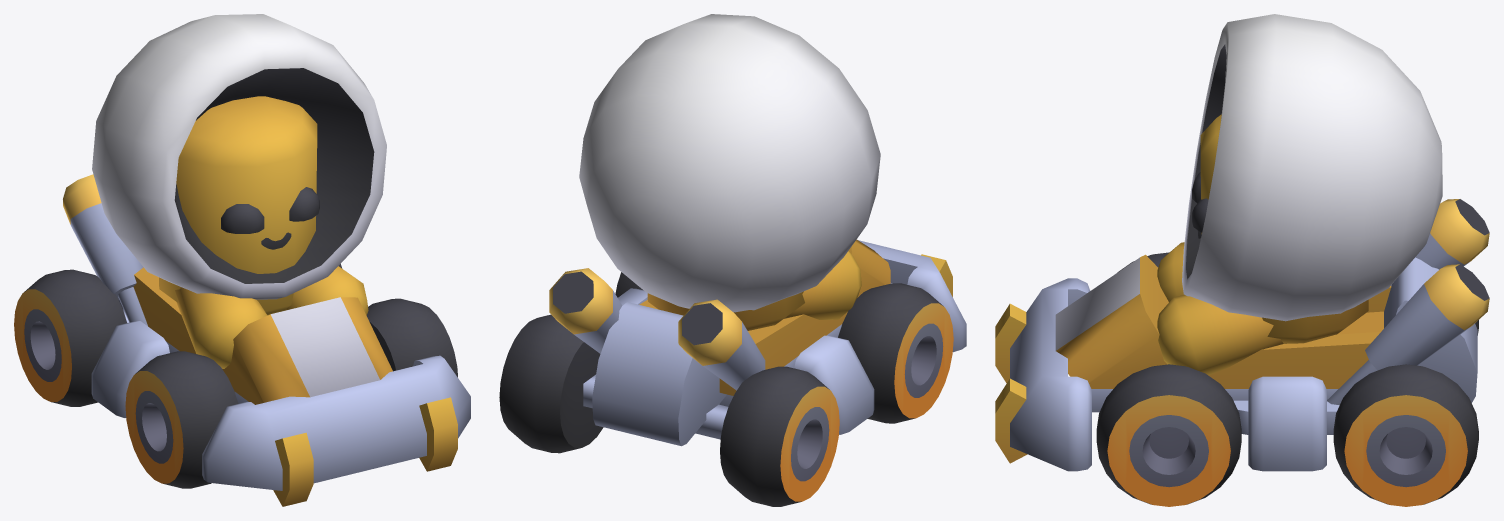
File: kart-ooli.glb
3 renders of one model, left to right at view 1: azimuth 30°, elevation 25°; view 2: azimuth 150°, elevation 25°; view 3: azimuth 270°, elevation 25°, orthographic. The views are drawn at different scales.
Parts seen in each view (by area): view 1: character, kart-ooli, wheel-back-right, wheel-front-right, wheel-front-left; view 2: character, kart-ooli, wheel-back-right, wheel-front-right, wheel-back-left; view 3: character, kart-ooli, wheel-front-left, wheel-back-left.
Boxes of the visible parts, left/top/right/bottom form: character: left=92, top=14, right=386, bottom=368; kart-ooli: left=63, top=174, right=470, bottom=506; wheel-back-right: left=14, top=269, right=126, bottom=406; wheel-front-right: left=125, top=351, right=238, bottom=488; wheel-front-left: left=366, top=298, right=457, bottom=377; character: left=579, top=14, right=880, bottom=330; kart-ooli: left=549, top=239, right=966, bottom=446; wheel-back-right: left=720, top=366, right=839, bottom=506; wheel-front-right: left=838, top=283, right=953, bottom=423; wheel-back-left: left=499, top=314, right=603, bottom=453; character: left=1157, top=14, right=1442, bottom=375; kart-ooli: left=995, top=199, right=1489, bottom=471; wheel-front-left: left=1096, top=364, right=1241, bottom=506; wheel-back-left: left=1333, top=364, right=1478, bottom=506.
Size of the model in its own units: 0.9743 by 1.33 by 1.43.
1 material, 1 textured.
